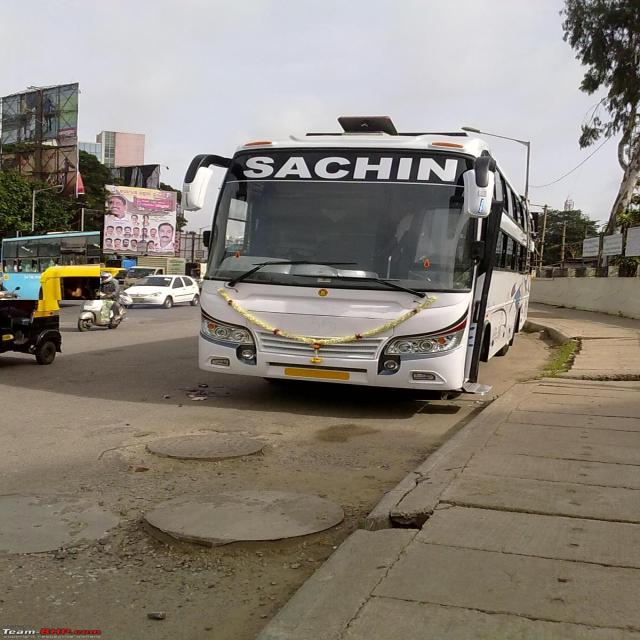autorickshaw: (0, 265, 62, 364)
bus: (183, 116, 533, 394), (0, 231, 100, 300)
car: (125, 275, 200, 308)
motorcycle: (77, 272, 125, 331)
